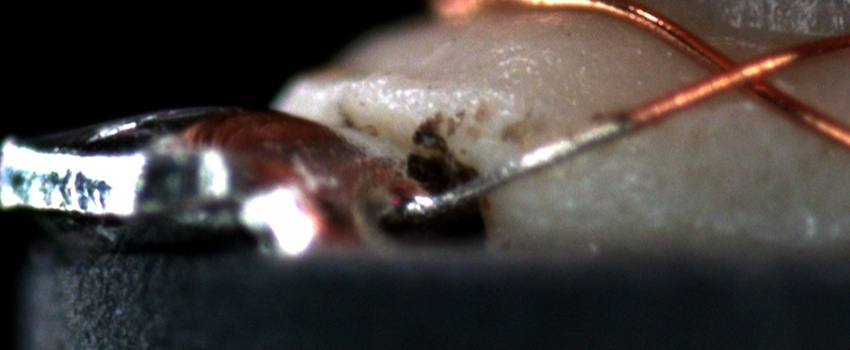CL: (688, 43, 789, 103)
TS: (408, 114, 634, 215)
